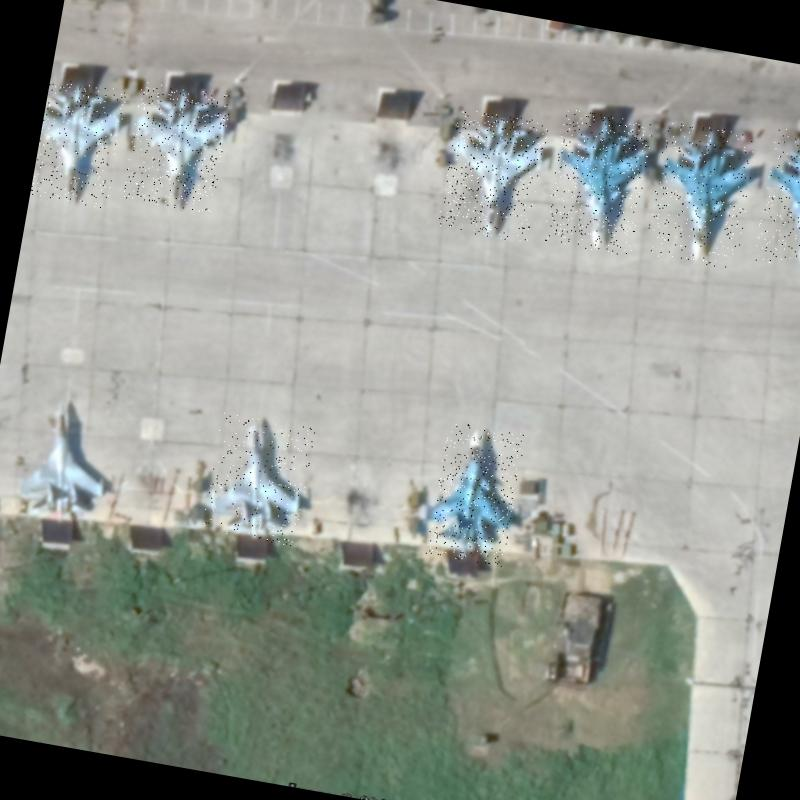A1: (201, 412, 316, 547), (438, 107, 549, 244), (12, 394, 122, 530), (122, 80, 232, 214), (30, 78, 127, 210)
A19: (644, 119, 759, 270), (543, 108, 654, 256), (426, 421, 526, 567), (753, 127, 800, 273)
